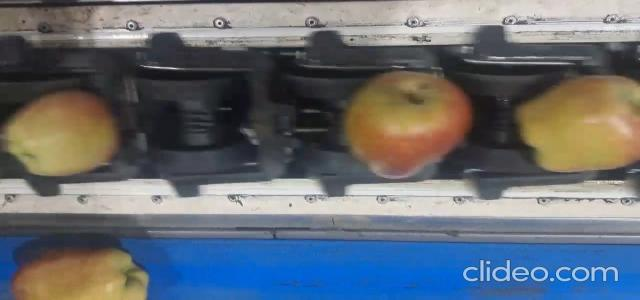apple: (345, 71, 471, 179), (4, 91, 119, 176)
